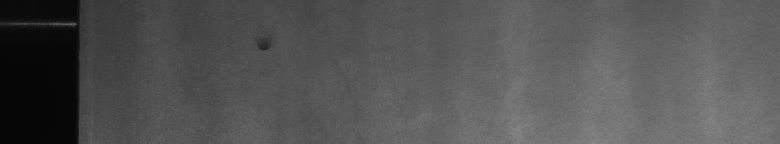fi: (255, 36, 273, 57)
